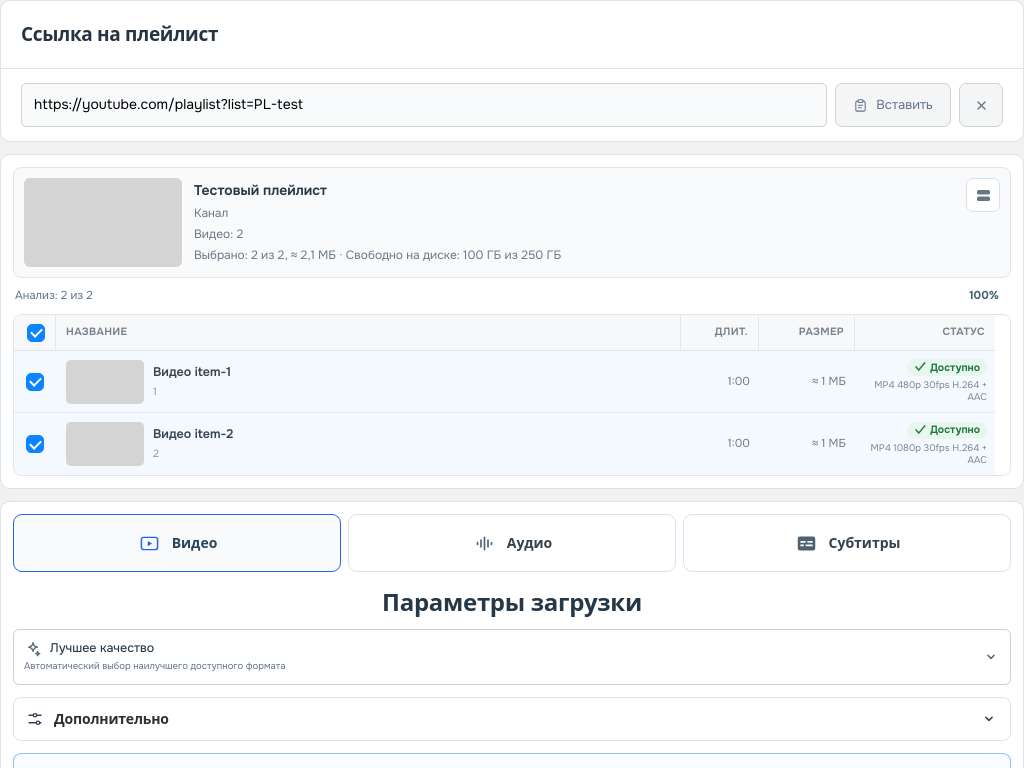
Playlist › excludes selected videos that do not match the current quality profile from the action count
The width and height of the screenshot is (1024, 768).
Check: the text "Доступно" is shown 2 times, box left=907, top=359, right=987, bottom=376; left=907, top=422, right=987, bottom=439
Step 1. Click the dropdown named "Профиль скачивания" → click(102, 648), box left=13, top=629, right=1011, bottom=685
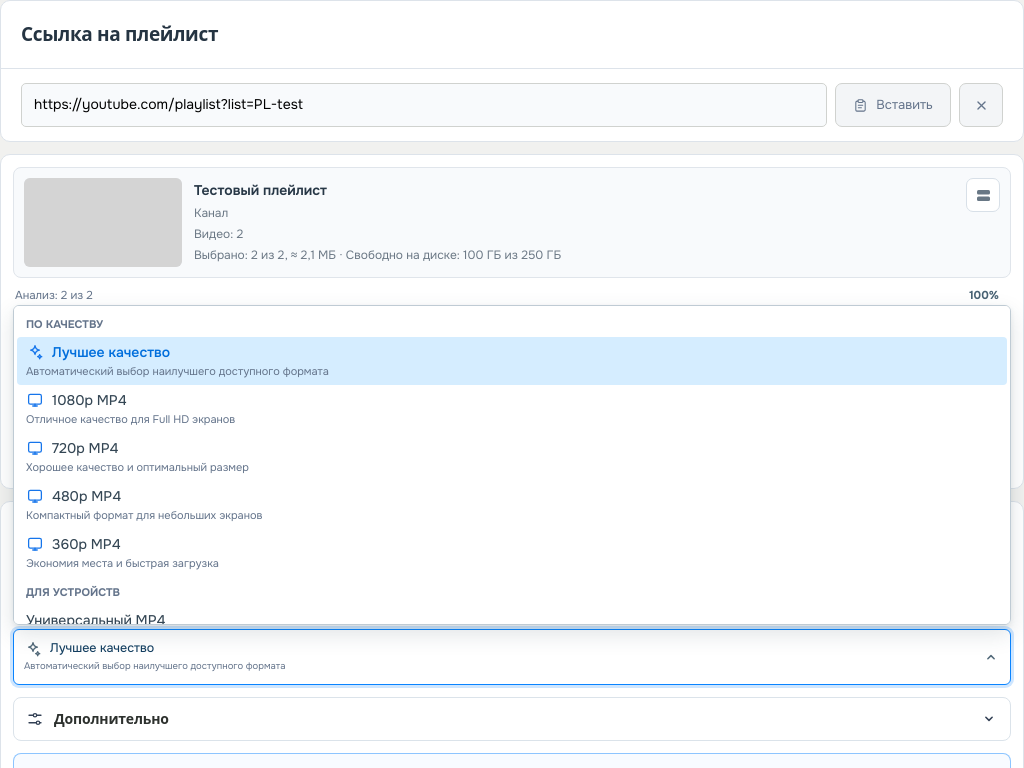
Step 2. Click the text "480p MP4" → click(74, 496), box left=26, top=487, right=121, bottom=506
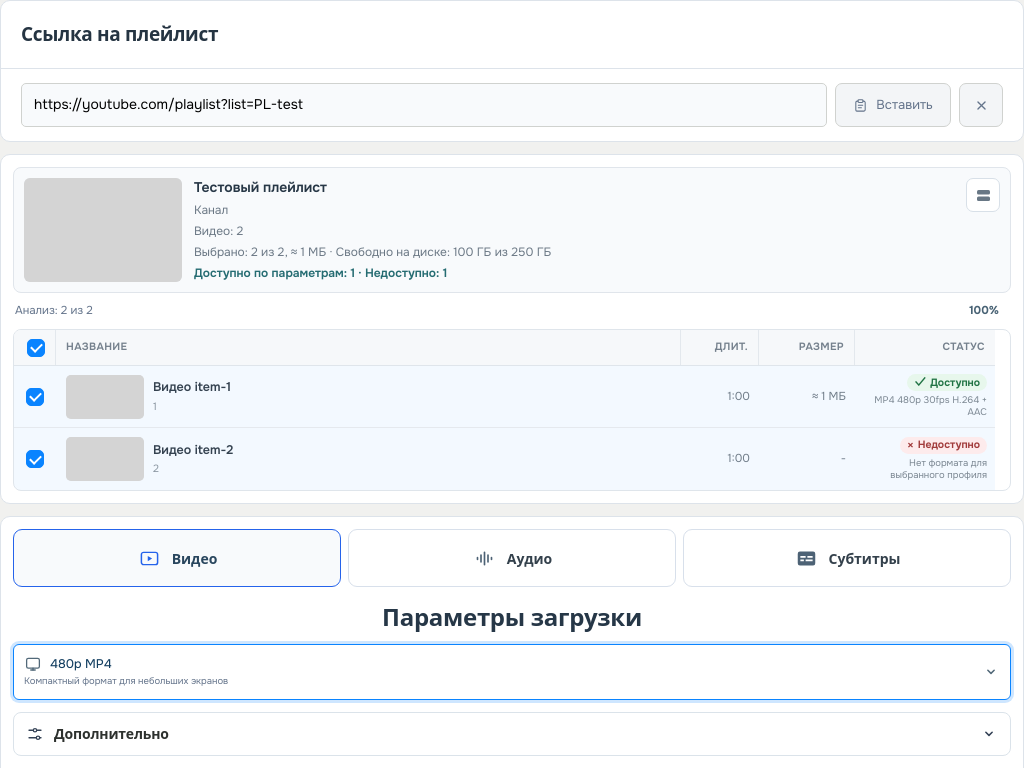
Check: the text "Нет формата для выбранного профиля" is shown, box left=890, top=457, right=987, bottom=481
